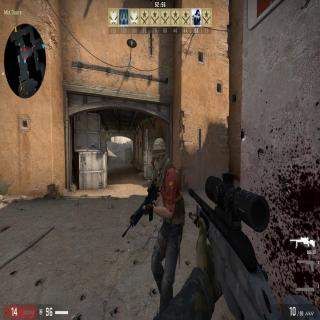T-Body: (139, 136, 189, 320)
T-Head: (153, 140, 166, 172)
